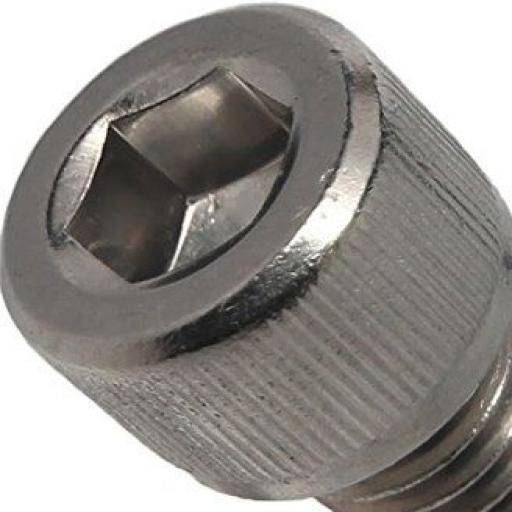Hex-Allen: (0, 2, 510, 511)
